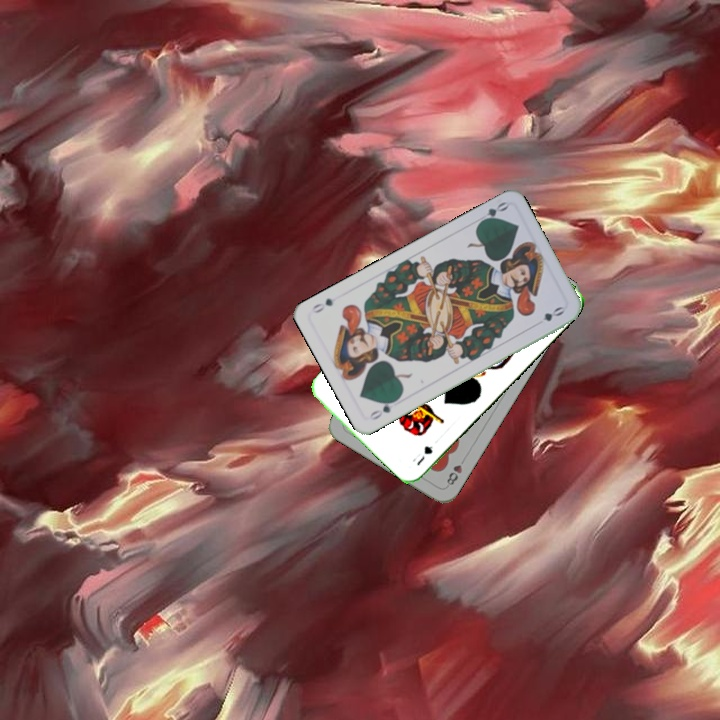GO: (472, 197, 511, 227), (365, 394, 401, 423)
GU: (412, 442, 435, 468)
H8: (443, 461, 465, 488)
